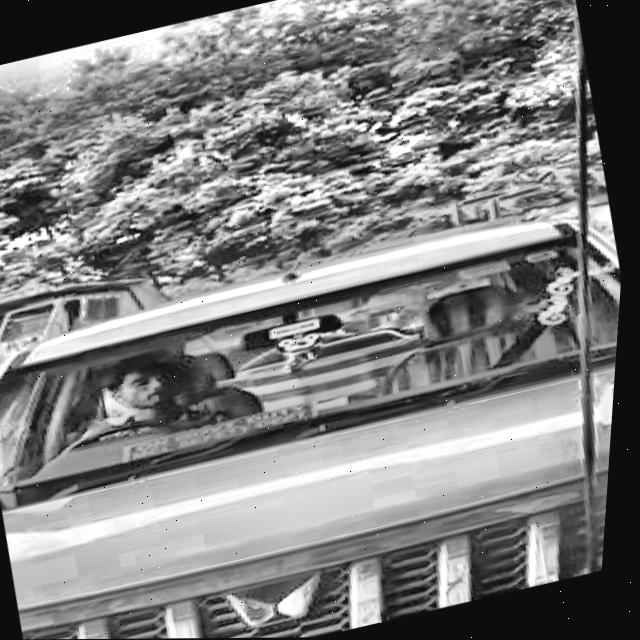light_vehicle: (0, 209, 629, 640)
